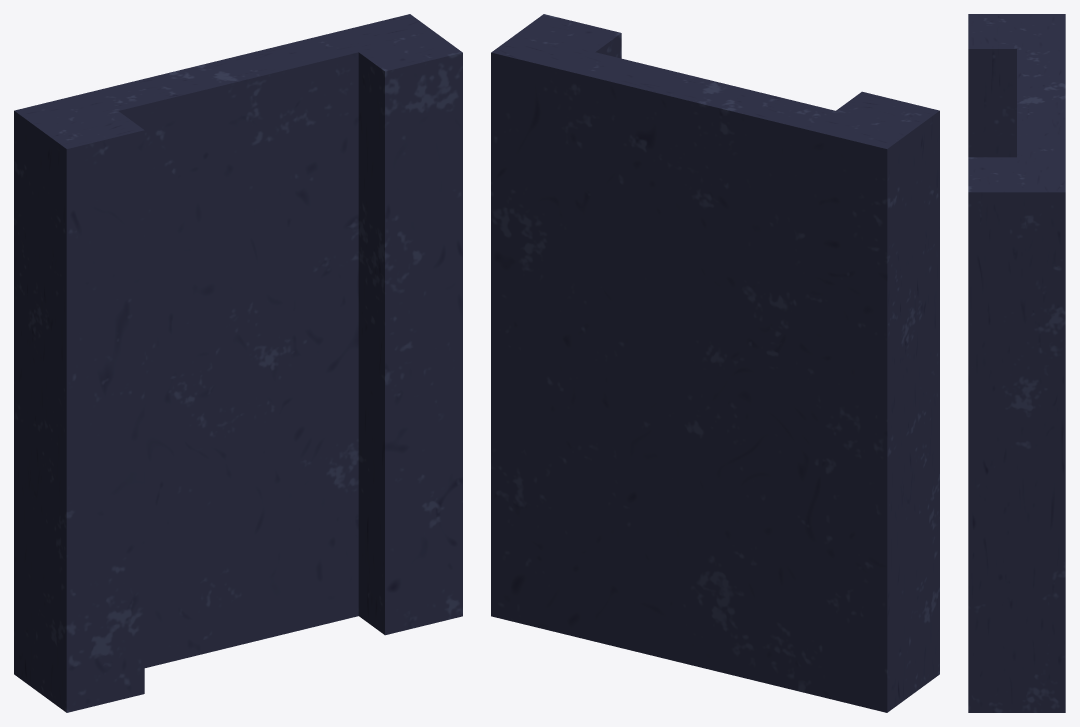
3 renders of one model, left to right at view 1: azimuth 30°, elevation 25°; view 2: azimuth 150°, elevation 25°; view 3: azimuth 270°, elevation 25°, orthographic. The views are drawn at different scales.
Parts seen in each view (by area): view 1: w_High_P; view 2: w_High_P; view 3: w_High_P.
Boxes of the visible parts, x1=… form: w_High_P: x1=14, y1=14, x2=462, y2=712; w_High_P: x1=491, y1=14, x2=939, y2=712; w_High_P: x1=968, y1=14, x2=1065, y2=712.
Bounding box in the file's own units: 260 × 354 × 60.01.
1 material, 1 textured.
